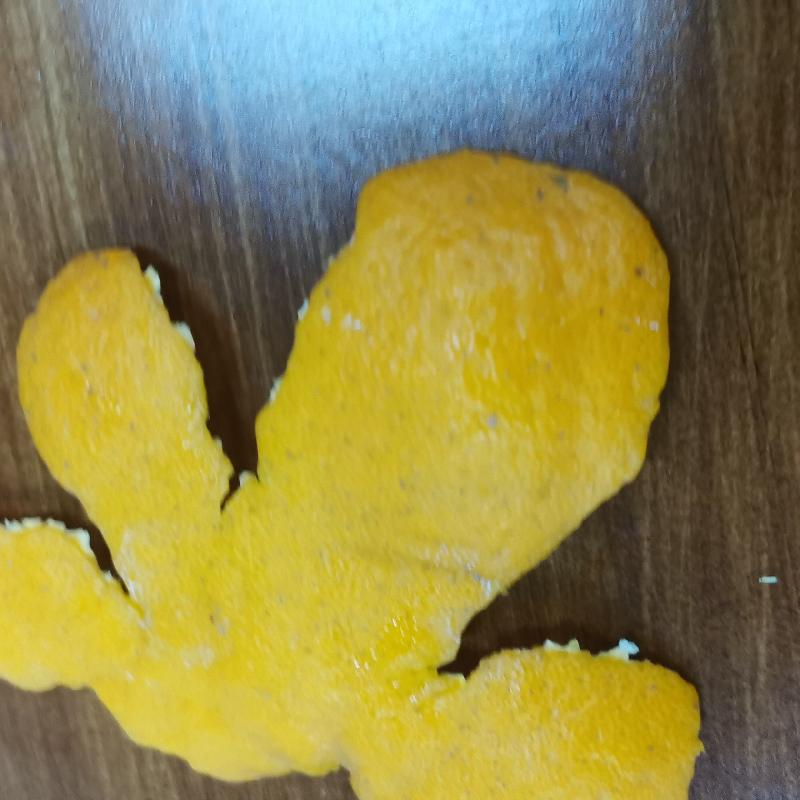orange: (1, 142, 726, 800)
